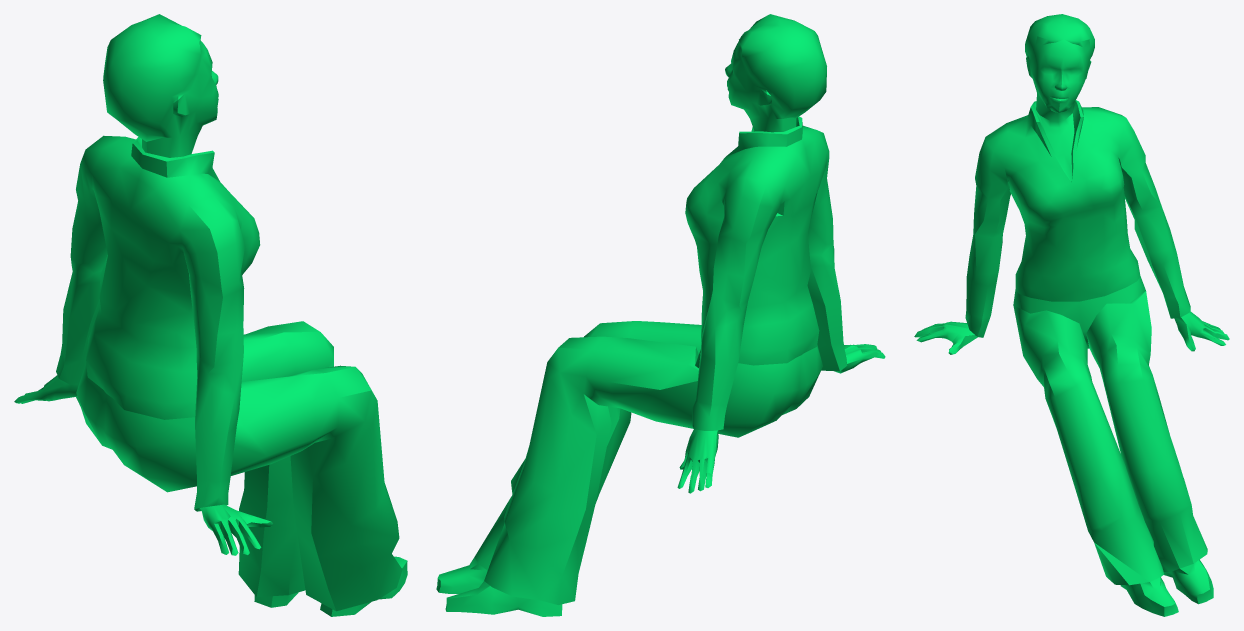
File: SM_Woman_Pants_Sit01.glb
3 renders of one model, left to right at view 1: azimuth 30°, elevation 25°; view 2: azimuth 150°, elevation 25°; view 3: azimuth 270°, elevation 25°, orthographic. The views are drawn at different scales.
Visible parts, largest first — view 1: SM_Woman_Pants_Sit01; view 2: SM_Woman_Pants_Sit01; view 3: SM_Woman_Pants_Sit01.
Part boxes in pixels (x1,y1,x2,y2): SM_Woman_Pants_Sit01: [14, 14, 407, 616]; SM_Woman_Pants_Sit01: [436, 14, 885, 616]; SM_Woman_Pants_Sit01: [914, 14, 1229, 616].
Size of the model in its own units: 0.7703 by 1.34 by 0.7905.
